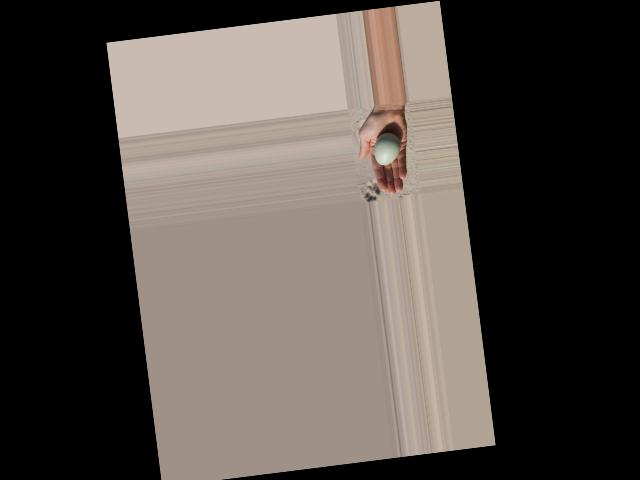egg: (372, 132, 402, 167)
